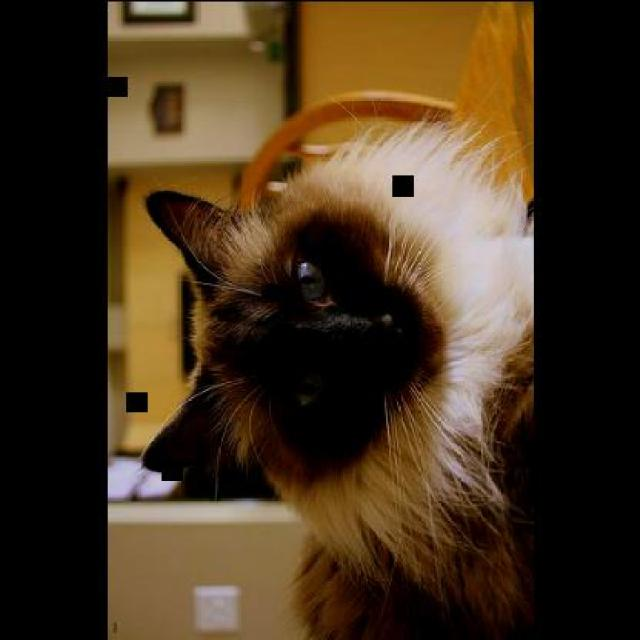unauthorized: (138, 110, 536, 638)
